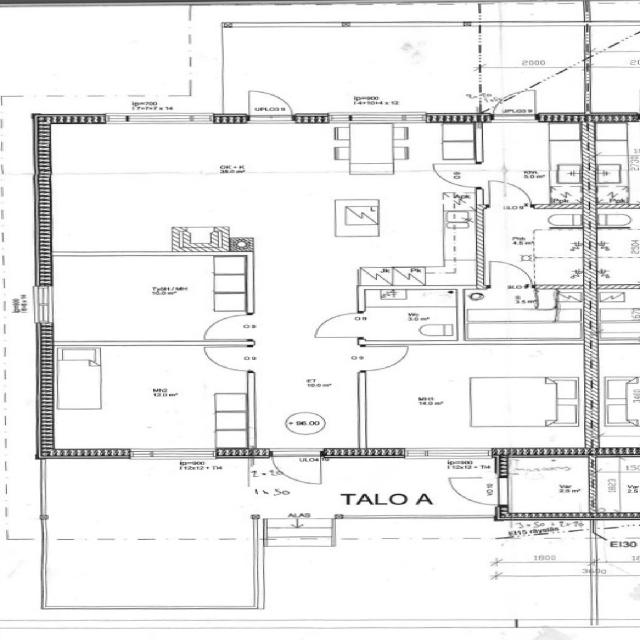door: (264, 446, 328, 487), (443, 474, 508, 508), (240, 86, 296, 121), (199, 342, 262, 373), (196, 312, 258, 343), (310, 310, 370, 342), (356, 342, 414, 374), (490, 88, 544, 121), (484, 258, 535, 288), (429, 162, 481, 191), (486, 180, 534, 208), (596, 558, 640, 577)
window: (56, 244, 209, 260), (95, 110, 213, 130), (24, 282, 64, 326), (120, 446, 222, 463), (319, 111, 429, 125), (31, 516, 56, 567), (400, 446, 464, 462)
zone: (41, 178, 416, 254), (362, 340, 592, 451), (38, 342, 250, 454), (40, 252, 253, 345), (332, 173, 480, 287), (482, 202, 590, 286), (462, 285, 587, 341), (502, 454, 597, 517), (362, 289, 462, 343), (585, 228, 640, 286), (591, 453, 640, 515), (600, 376, 640, 447), (592, 517, 640, 569), (597, 287, 640, 324), (599, 342, 638, 378), (598, 321, 640, 343)
